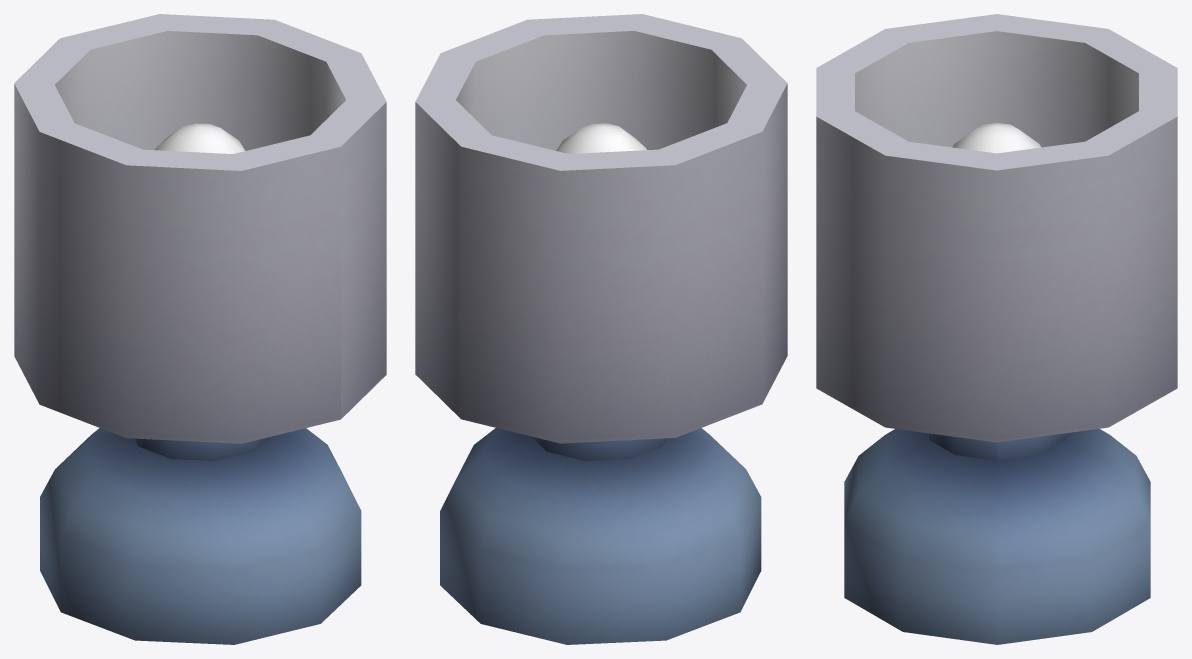
Rendered from frl_apartment_lamp_02.glb.
The picture shows the model from 3 angles, left to right: view 1: azimuth 30°, elevation 25°; view 2: azimuth 150°, elevation 25°; view 3: azimuth 270°, elevation 25°; orthographic projection.
Visible parts, largest first — view 1: frl_apartment_lamp_02; view 2: frl_apartment_lamp_02; view 3: frl_apartment_lamp_02.
Part boxes in pixels (x1,y1,x2,y2): frl_apartment_lamp_02: (14, 14, 386, 644); frl_apartment_lamp_02: (415, 14, 787, 644); frl_apartment_lamp_02: (816, 14, 1177, 644).
Size of the model in its own units: 0.2401 by 0.3463 by 0.2342.
1 material, 1 textured.
